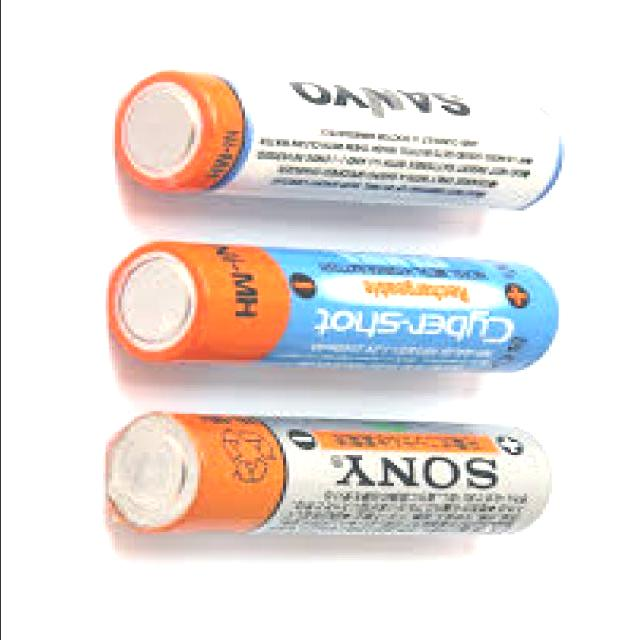AA: (103, 238, 583, 377), (115, 68, 570, 212), (96, 412, 560, 540)
